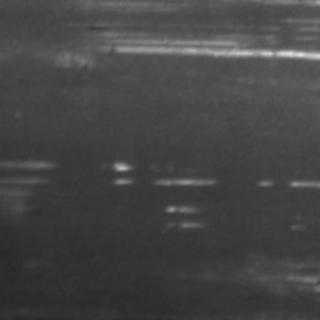scratches: (63, 24, 317, 64)
